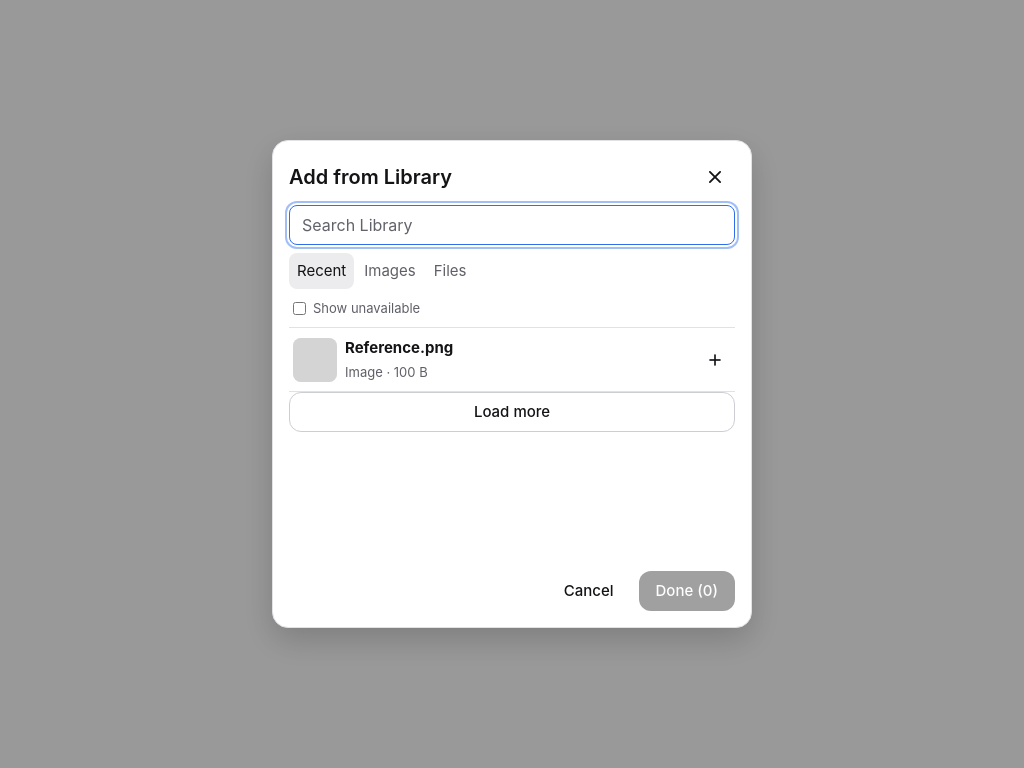
it: LibraryPicker › loads and deduplicates cursor pages
Expected: the text "Reference.png" is shown, [345,338,453,356]
What coordinates should you click on to do the following:
click the button "Load more"
I would click on:
 (512, 412)
Its box is [289,392,735,432].
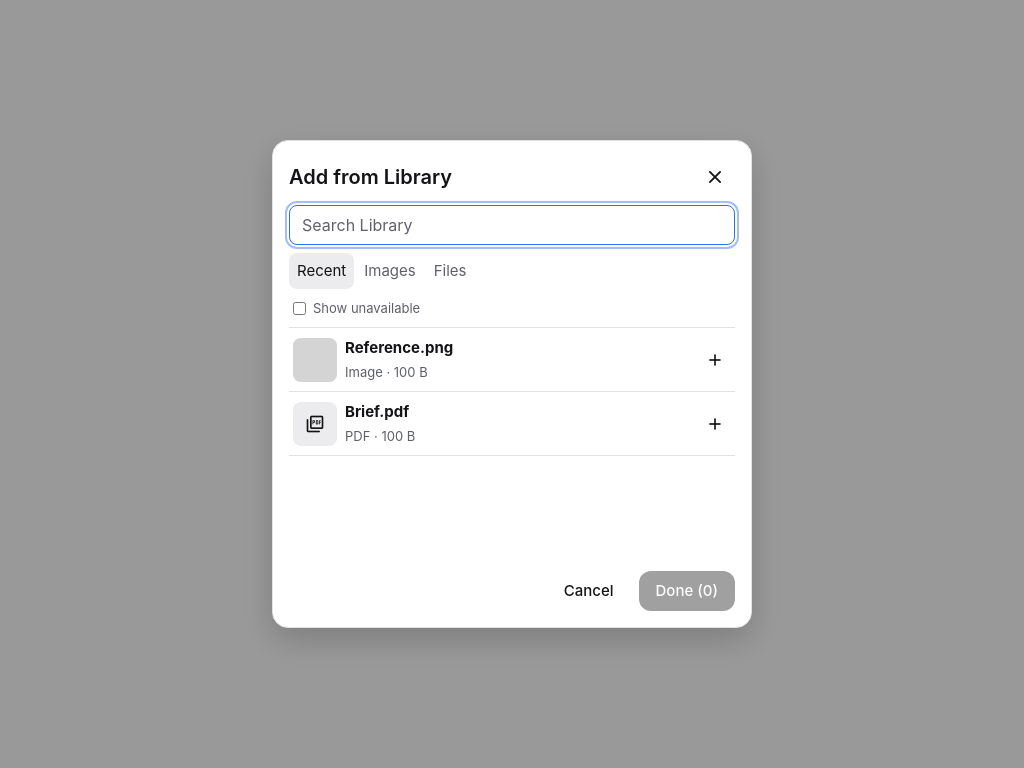
Result: the text "Brief.pdf" is shown at [345,402,409,420]
Result: the text "Reference.png" is shown once at [345,338,453,356]
